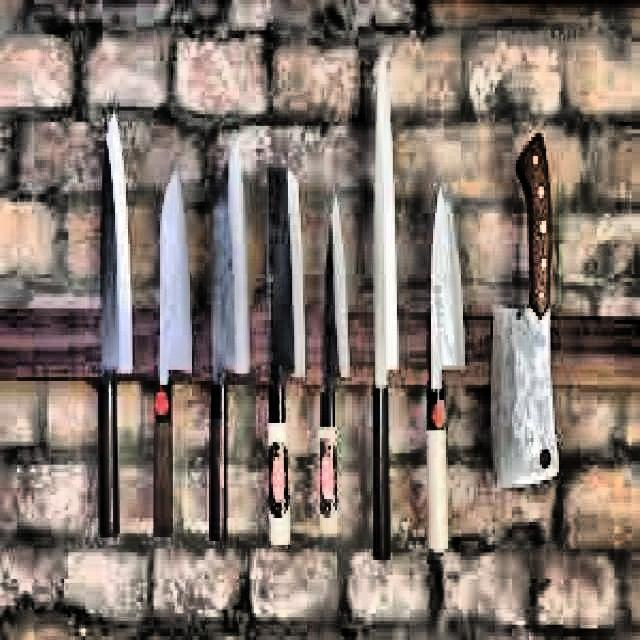knife: (484, 134, 566, 494), (202, 143, 250, 562), (422, 183, 471, 562), (366, 39, 400, 554), (264, 164, 308, 560), (150, 173, 193, 539), (314, 181, 354, 545), (98, 101, 126, 556)
